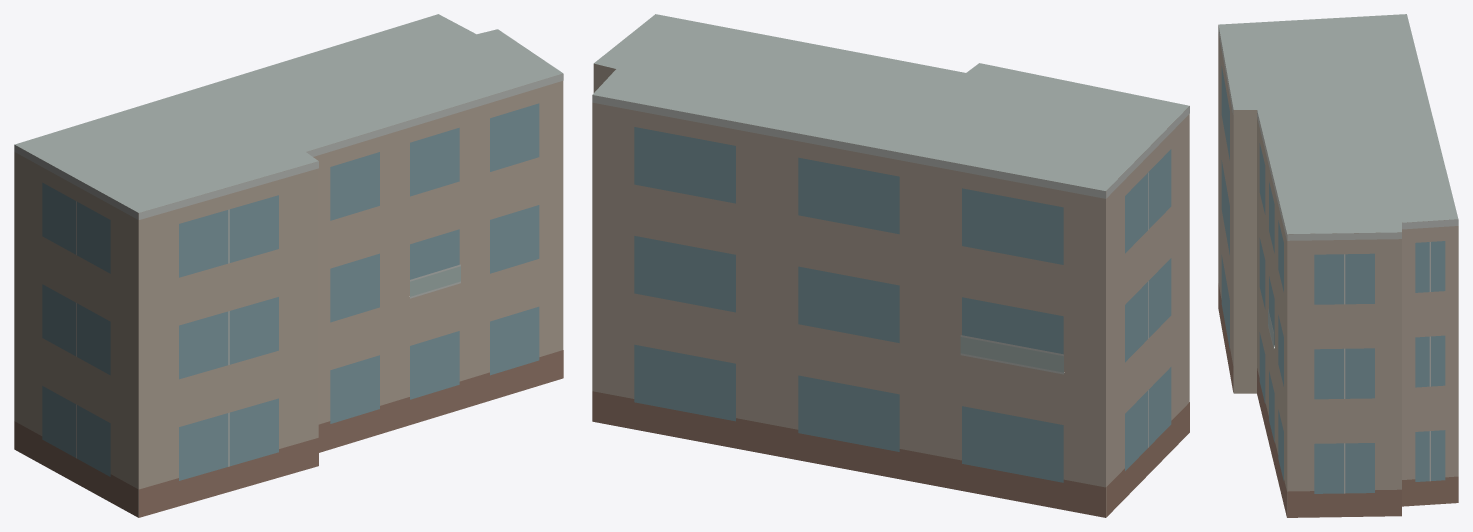
The model's file is survey-upis-32641715.glb.
3 renders of one model, left to right at view 1: azimuth 30°, elevation 25°; view 2: azimuth 150°, elevation 25°; view 3: azimuth 270°, elevation 25°, orthographic. The views are drawn at different scales.
Visible parts, largest first — view 1: survey-upis-32641715.tmp; view 2: survey-upis-32641715.tmp; view 3: survey-upis-32641715.tmp.
Boxes of the visible parts, <box> form: survey-upis-32641715.tmp: <box>14,14,563,517</box>; survey-upis-32641715.tmp: <box>592,14,1189,517</box>; survey-upis-32641715.tmp: <box>1218,14,1458,517</box>.
Size of the model in its own units: 17.15 by 10.3 by 7.91.
